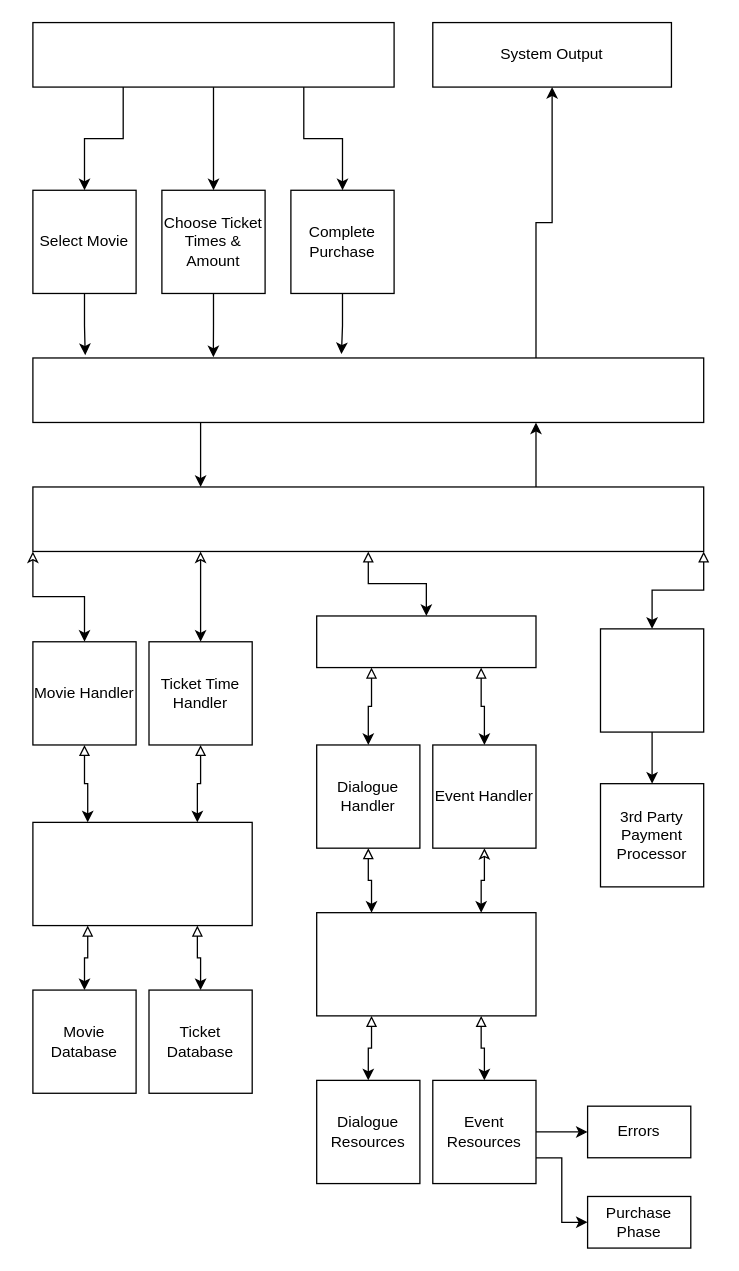
Some shapes in this 739 by 1271 pixel diagram are drawn without their labels. The shapes that lost their labels are listed below. From the top down, each one's centre as x and y in pixels, then its label:
point 213,54: User Input
point 368,389: GUI
point 368,518: Purchase Handler
point 425,641: Update Handler
point 651,680: Payment Handler
point 142,873: Database Handler
point 425,963: Server Resource Handler
